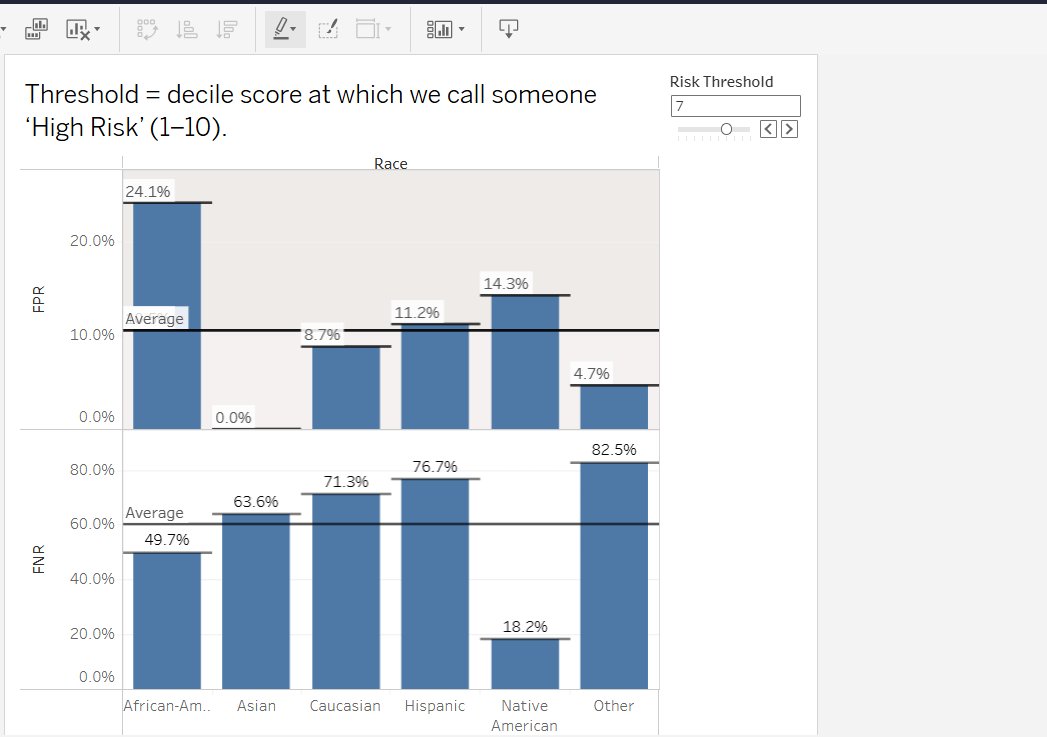

The dashboard page shown, as its layout file describes it:
{"tool":"tableau","page":{"name":"Dashboard 1","canvas":[650,860],"ordinal":0},"visuals":[{"type":"worksheet","title":"03_Bias_Simulator","mark":"Automatic","rows":["Calculation_547468880591769605","Calculation_547468880591855622"],"cols":["race"],"box":[8,8.1,520,843.8]},{"type":"parameter","param":"[Parameters].[Age Cat Parameter]","box":[528,8.1,114,79.7]}]}

Visuals, with their boxes on the page's 650x860 design canvas (x1, y1, x2, y2). These are canvas units, not pixel positions in the 1047x737 screenshot, which may show the page scaled, cropped or inside an application window:
"03_Bias_Simulator" worksheet: bbox=[8, 8, 528, 852]
parameter: bbox=[528, 8, 642, 88]
